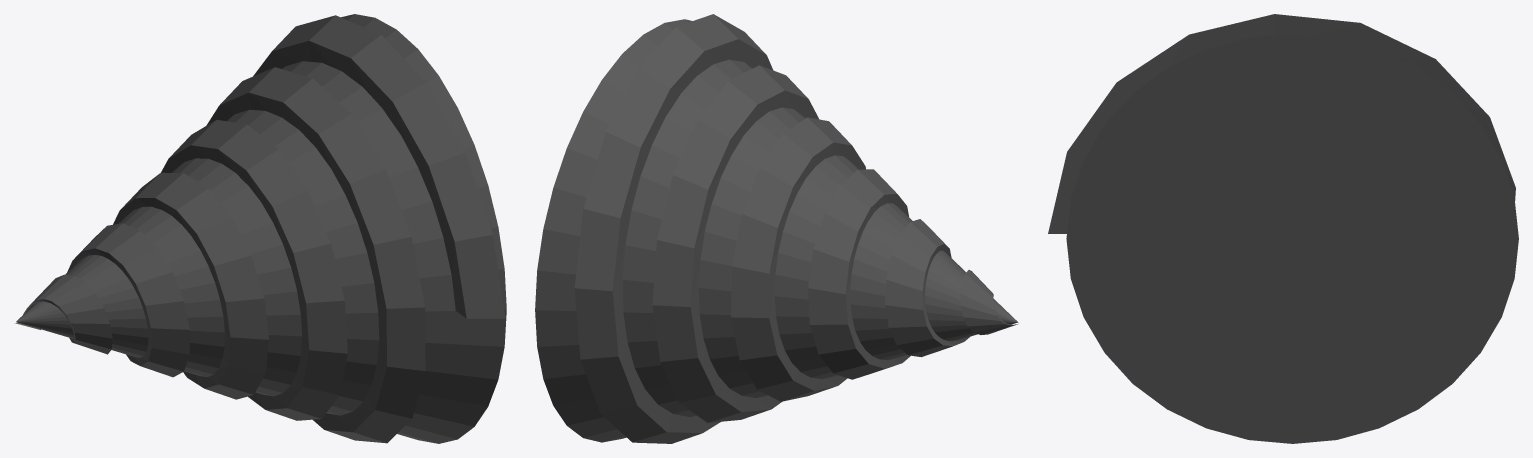
Rendered from drill.obj.
3 views of the same model, side by side, from view 1: azimuth 30°, elevation 25°; view 2: azimuth 150°, elevation 25°; view 3: azimuth 270°, elevation 25° (orthographic). The views are drawn at different scales.
Parts seen in each view (by area): view 1: 平面; view 2: 平面; view 3: 平面.
Boxes of the visible parts, box(x1,y1,x2,y2) form: 平面: box(15, 14, 506, 443); 平面: box(535, 14, 1018, 443); 平面: box(1048, 14, 1518, 443).
Size of the model in its own units: 2.01 by 2.04 by 2.08.
